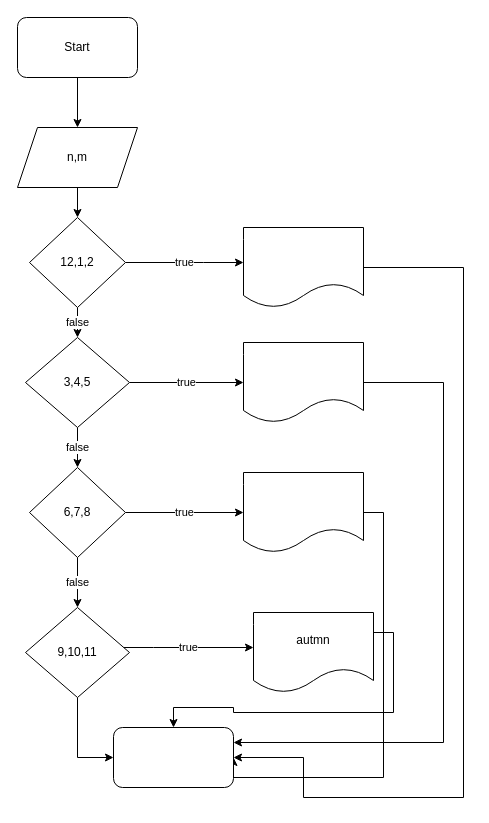
This 489x823 diagram has some shape labels left out. Each missing label, with the centre of its shape:
End: pixel 173 757
spring: pixel 303 382
summer: pixel 303 512
winter: pixel 303 267
